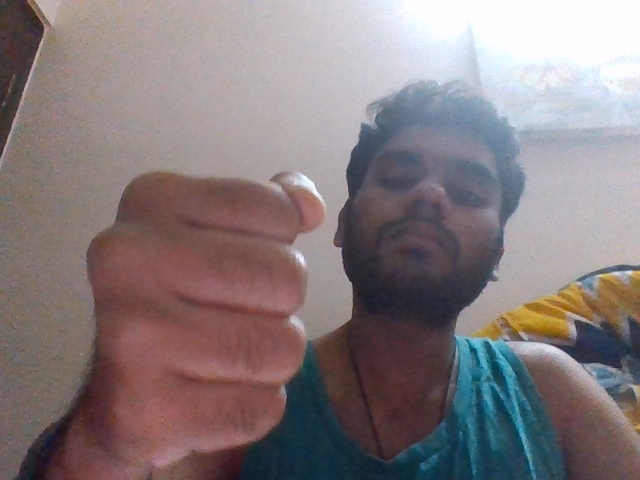yes: (69, 158, 333, 467)
